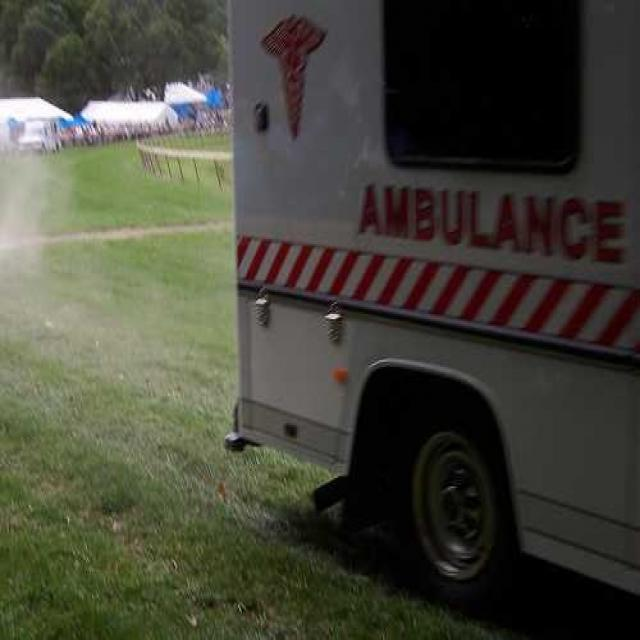emergency-vehicle: (196, 5, 640, 623)
